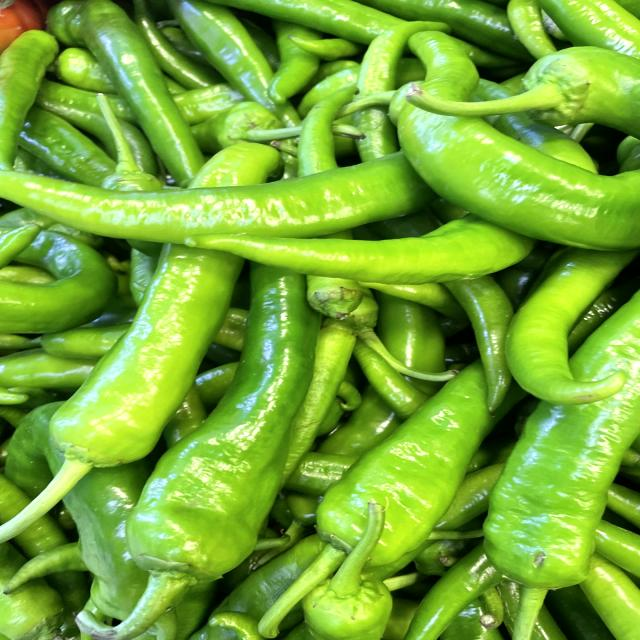green pepper: (72, 263, 325, 640), (0, 145, 464, 251)
